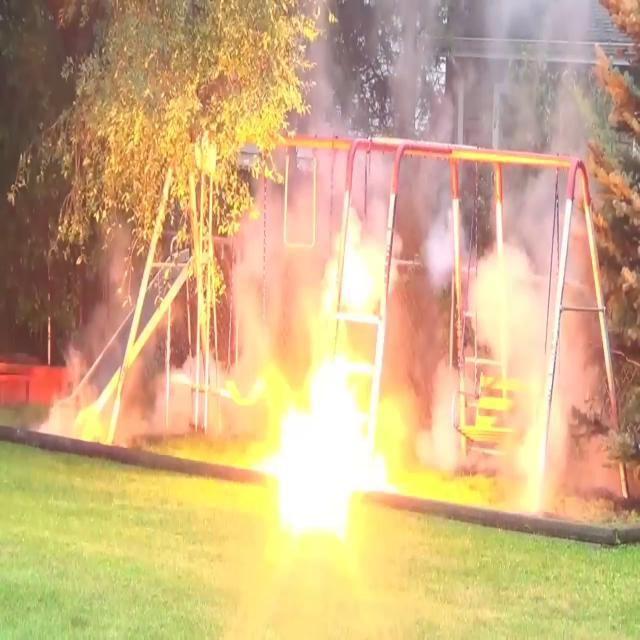Fire: (258, 191, 404, 557), (37, 350, 126, 450)
Smoke: (399, 0, 594, 486)
